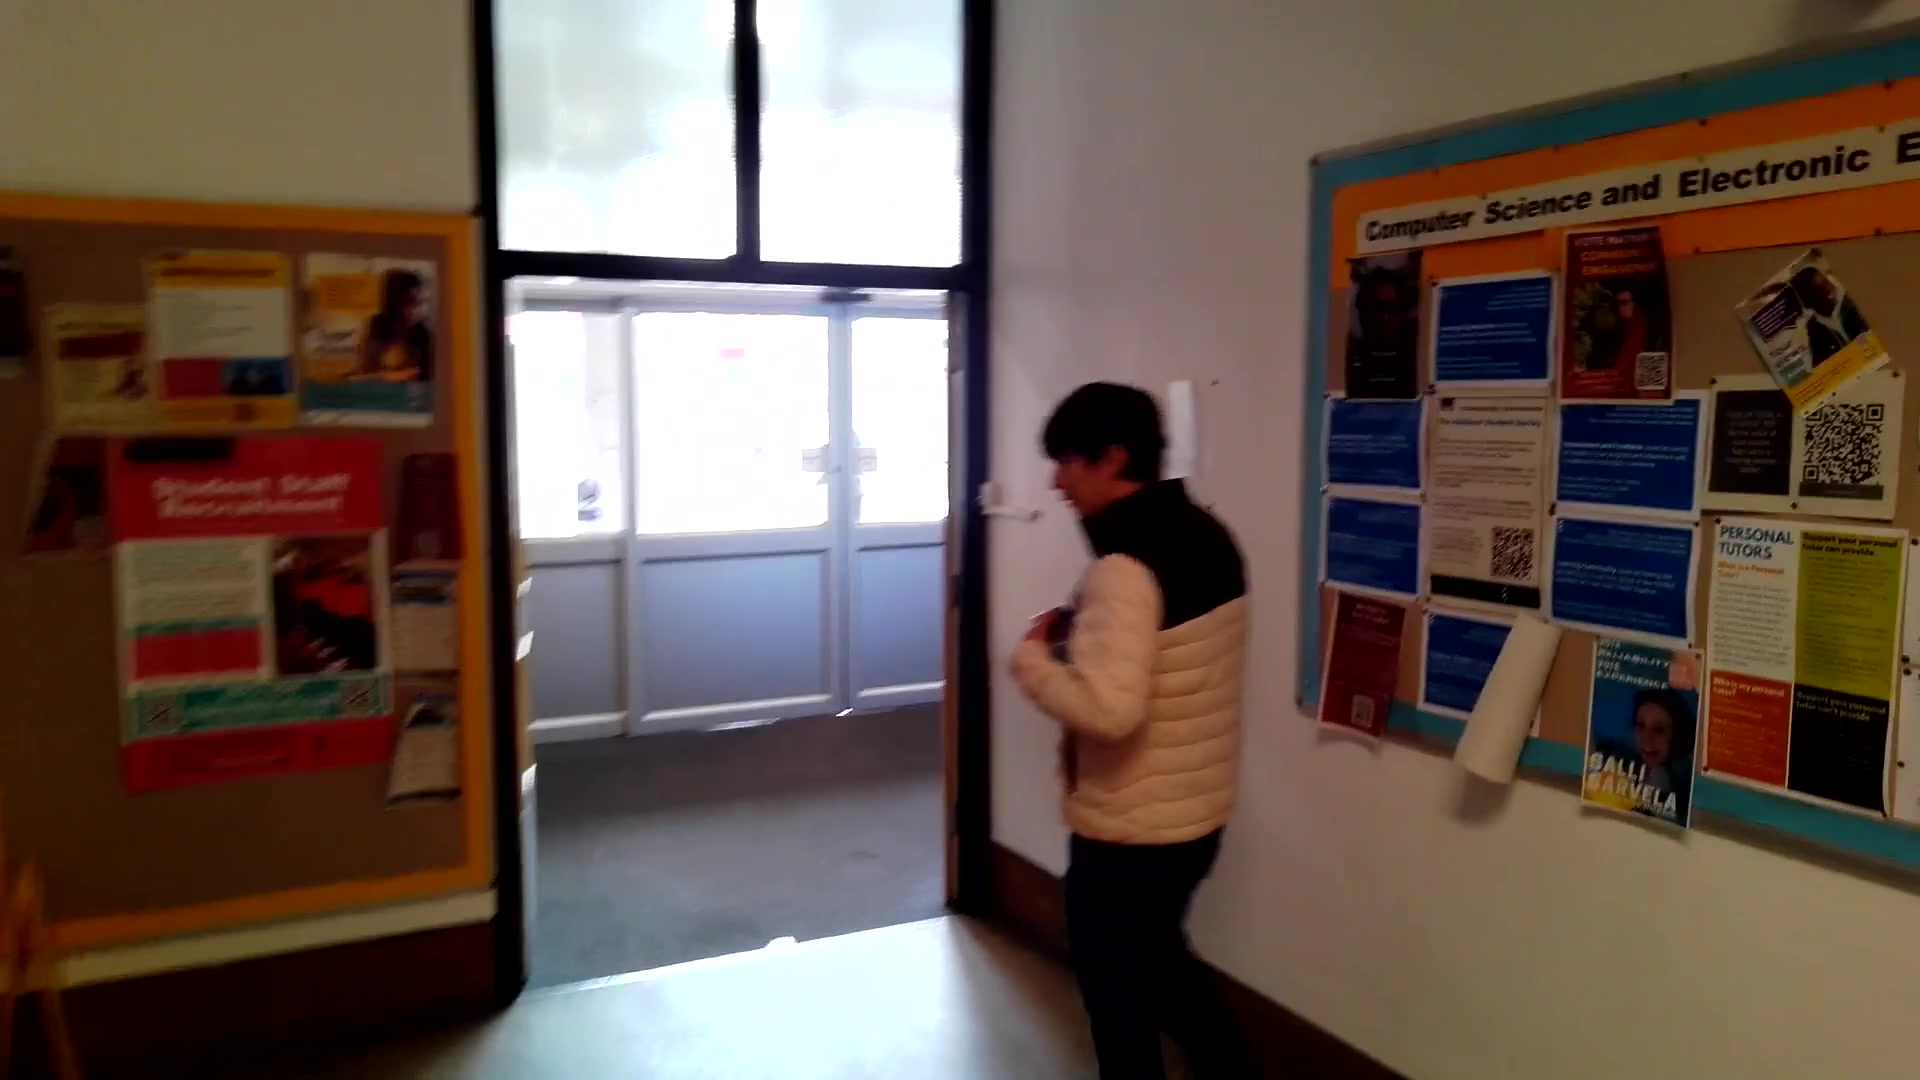Person: (1022, 382, 1242, 1080)
